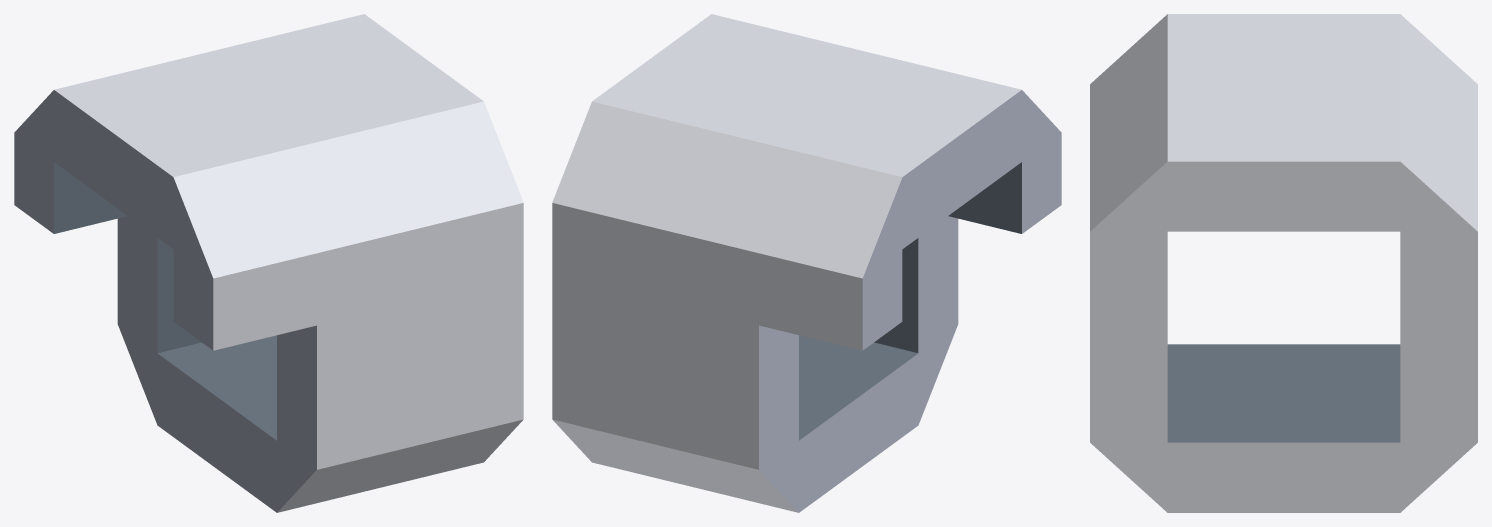
File: Barrel_A.fbx
3 renders of one model, left to right at view 1: azimuth 30°, elevation 25°; view 2: azimuth 150°, elevation 25°; view 3: azimuth 270°, elevation 25°, orthographic. The views are drawn at different scales.
Parts seen in each view (by area): view 1: barrel_a; view 2: barrel_a; view 3: barrel_a.
Part boxes in pixels (x1=…): barrel_a: x1=14, y1=14, x2=523, y2=512; barrel_a: x1=552, y1=14, x2=1061, y2=512; barrel_a: x1=1090, y1=14, x2=1477, y2=512.
Bounding box in the file's own units: 9 × 10 × 10.
